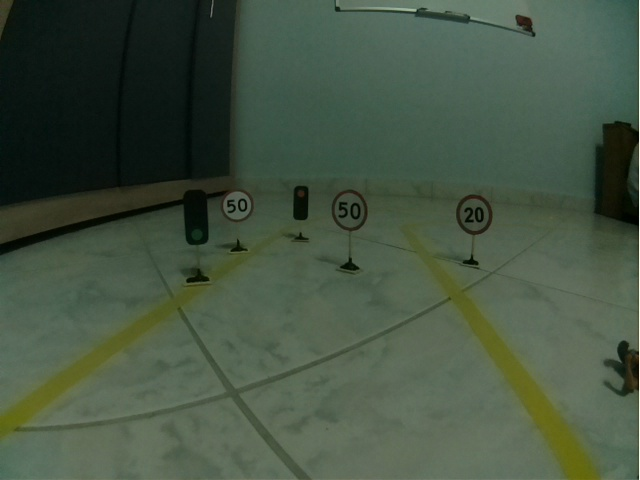Green Traffic Light: (183, 189, 209, 246)
Red Traffic Light: (292, 185, 309, 221)
Speed Limit 20: (456, 194, 493, 236)
Speed Limit 50: (332, 189, 368, 231), (220, 189, 254, 223)
